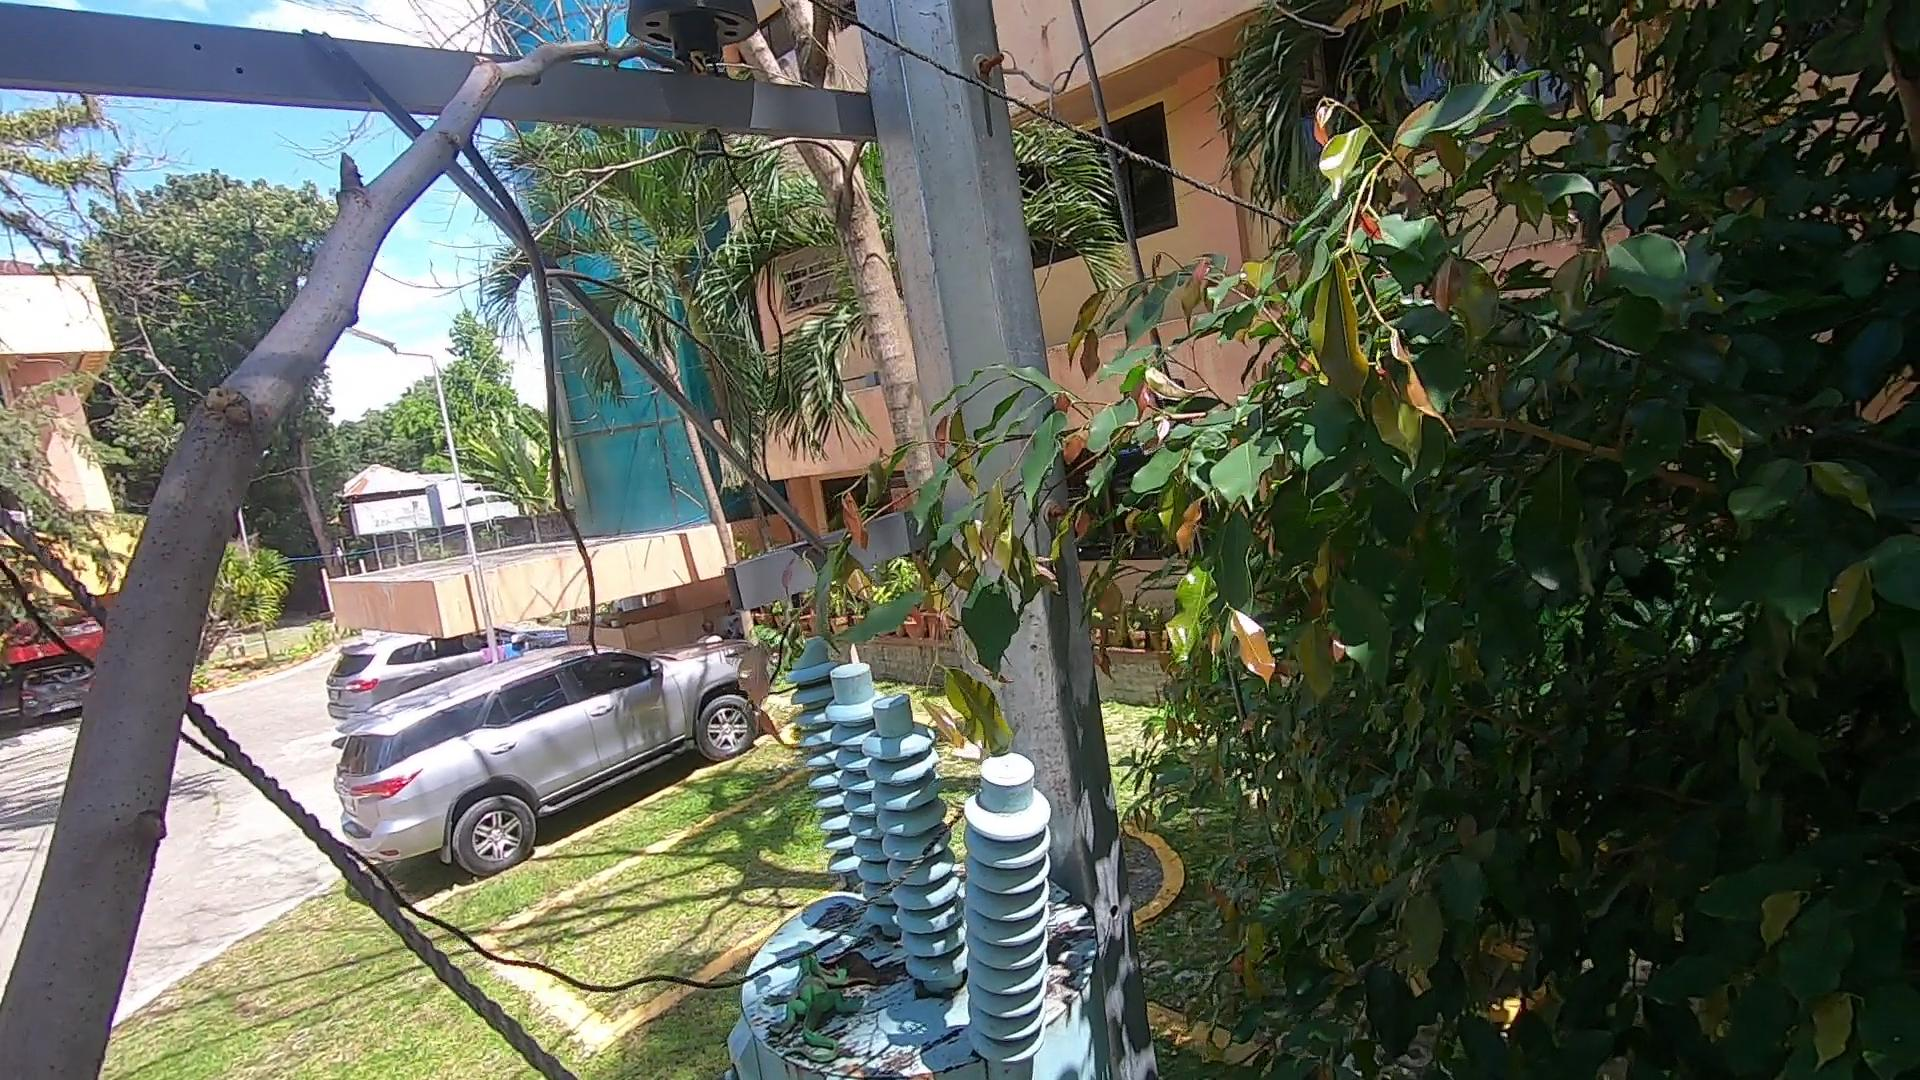branch with leaves: (771, 349, 1151, 781)
leaf: (818, 940, 903, 990), (1051, 911, 1104, 982)
tree branch: (22, 3, 698, 1063)
